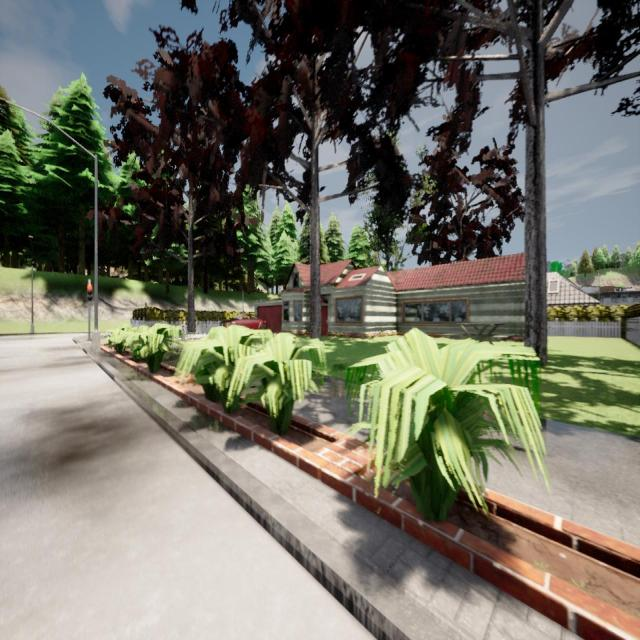Vehicle: (220, 314, 269, 329)
traffic_light: (87, 285, 93, 301)
